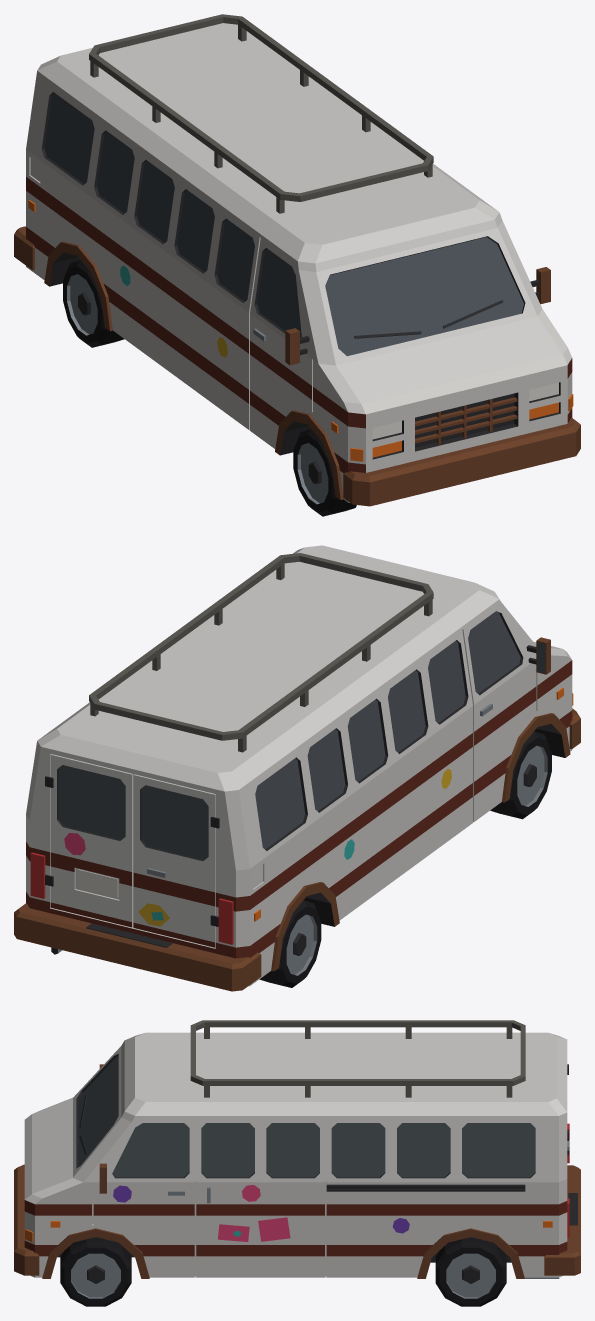
Rendered from skate-team-tour-van-fb3c89.glb.
3 views of the same model, one above another, from view 1: azimuth 30°, elevation 25°; view 2: azimuth 150°, elevation 25°; view 3: azimuth 270°, elevation 25° (orthographic). The views are drawn at different scales.
Visible parts, largest first — view 1: body, glass, tyre-fr, tyre-rr; view 2: body, glass, tyre-rr, tyre-fr; view 3: body, glass, tyre-fl, tyre-rl.
Part boxes in pixels (left/top/right/bottom): body: left=14, top=14, right=580, bottom=506; glass: left=44, top=93, right=523, bottom=356; tyre-fr: left=293, top=429, right=356, bottom=516; tyre-rr: left=63, top=260, right=124, bottom=347; body: left=14, top=545, right=580, bottom=991; glass: left=58, top=611, right=545, bottom=859; tyre-rr: left=259, top=900, right=321, bottom=987; tyre-fr: left=490, top=731, right=551, bottom=819; body: left=14, top=1020, right=580, bottom=1278; glass: left=78, top=1056, right=535, bottom=1177; tyre-fl: left=60, top=1237, right=131, bottom=1306; tyre-rl: left=435, top=1237, right=506, bottom=1306.
Bounding box in the file's own units: 2.33 × 2.24 × 5.39.
